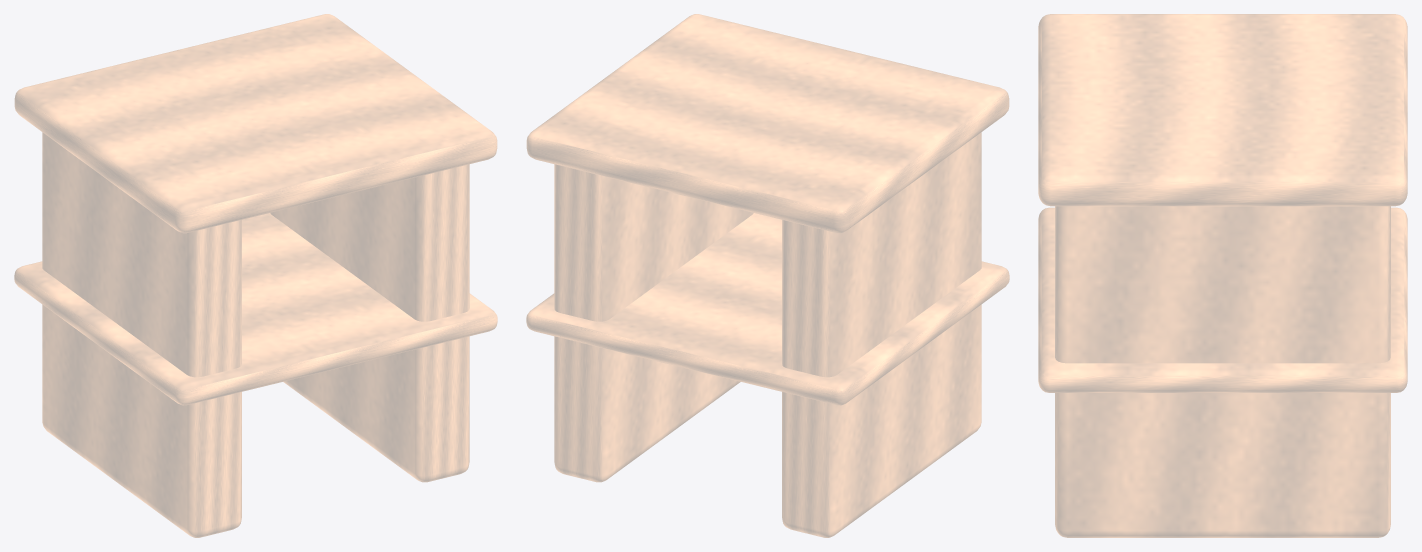
File: ref06_16.glb
3 views of the same model, side by side, from view 1: azimuth 30°, elevation 25°; view 2: azimuth 150°, elevation 25°; view 3: azimuth 270°, elevation 25° (orthographic). The views are drawn at different scales.
Visible parts, largest first — view 1: ref06_16; view 2: ref06_16; view 3: ref06_16.
Part boxes in pixels (x1,y1,x2,y2): ref06_16: [14, 14, 497, 537]; ref06_16: [526, 14, 1009, 537]; ref06_16: [1038, 14, 1407, 537].
Bounding box in the file's own units: 0.48 × 0.49 × 0.44.
Materials: 1 (1 with a texture image).
